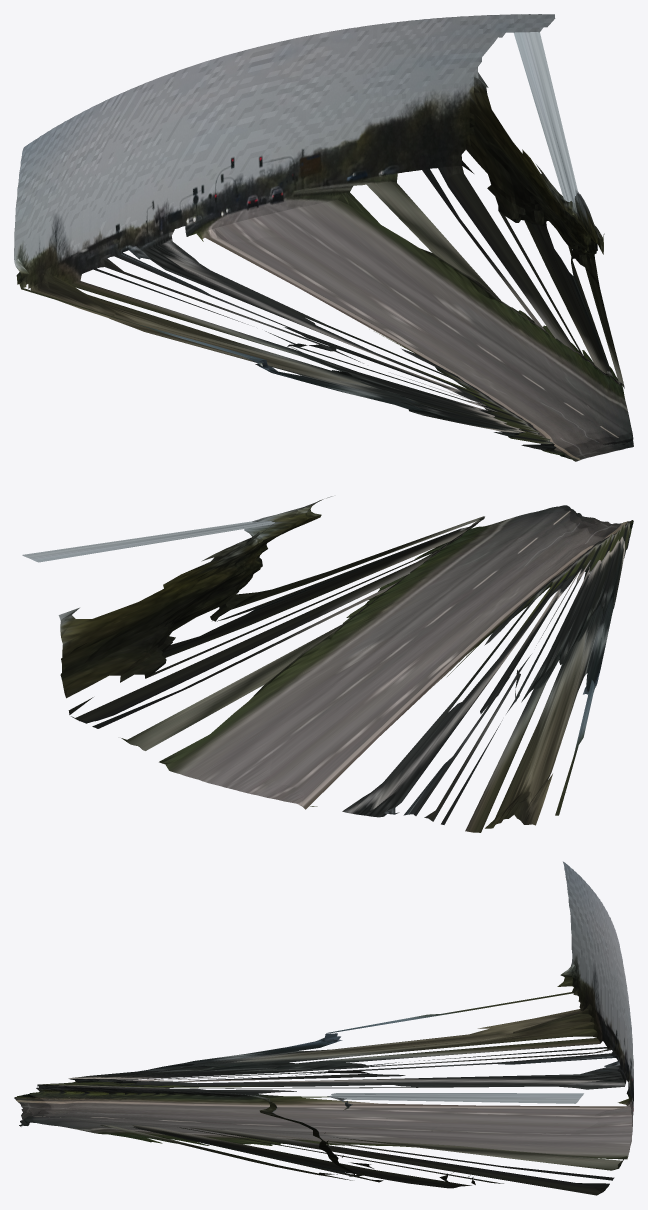
3 renders of one model, top to bottom at view 1: azimuth 30°, elevation 25°; view 2: azimuth 150°, elevation 25°; view 3: azimuth 270°, elevation 25°, orthographic. The views are drawn at different scales.
Visible parts, largest first — view 1: defaultobject; view 2: defaultobject; view 3: defaultobject.
Part boxes in pixels (x1,y1,x2,y2): defaultobject: (14,14,633,461); defaultobject: (22,496,633,832); defaultobject: (14,861,633,1195).
Bounding box in the file's own units: 40.03 × 12.83 × 44.87.
Materials: 1 (1 with a texture image).
